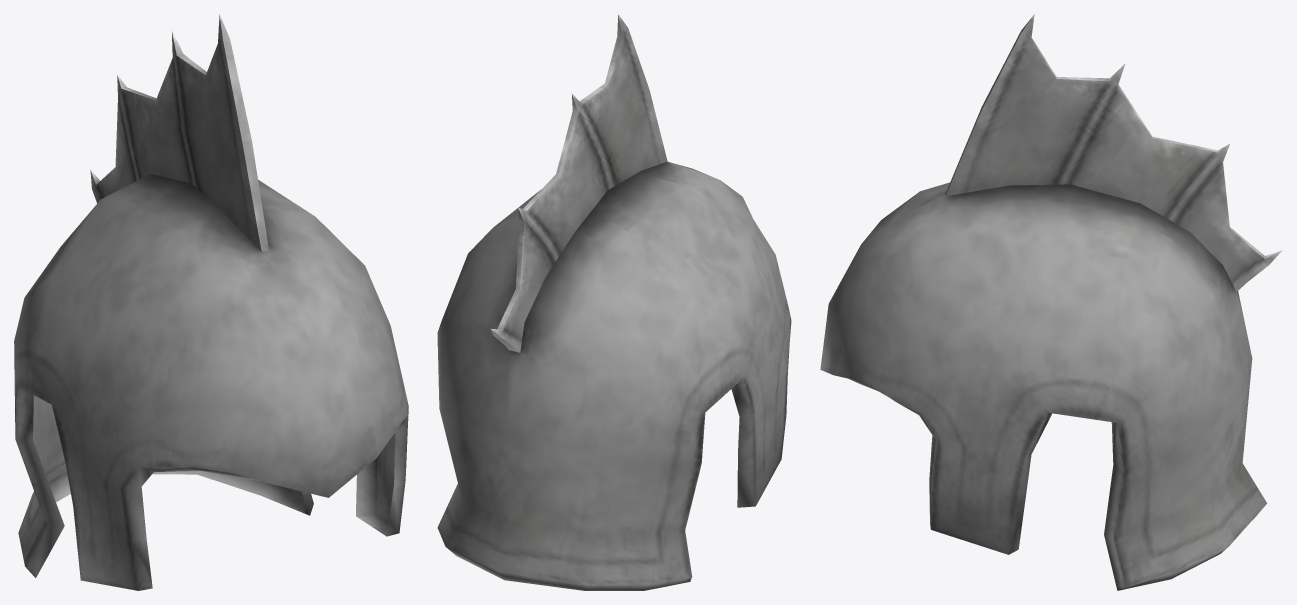
File: helmet-mediuminfantry.glb
3 views of the same model, side by side, from view 1: azimuth 30°, elevation 25°; view 2: azimuth 150°, elevation 25°; view 3: azimuth 270°, elevation 25° (orthographic). The views are drawn at different scales.
Size of the model in its own units: 0.2595 by 0.4568 by 0.3695.
1 material, 1 textured.
